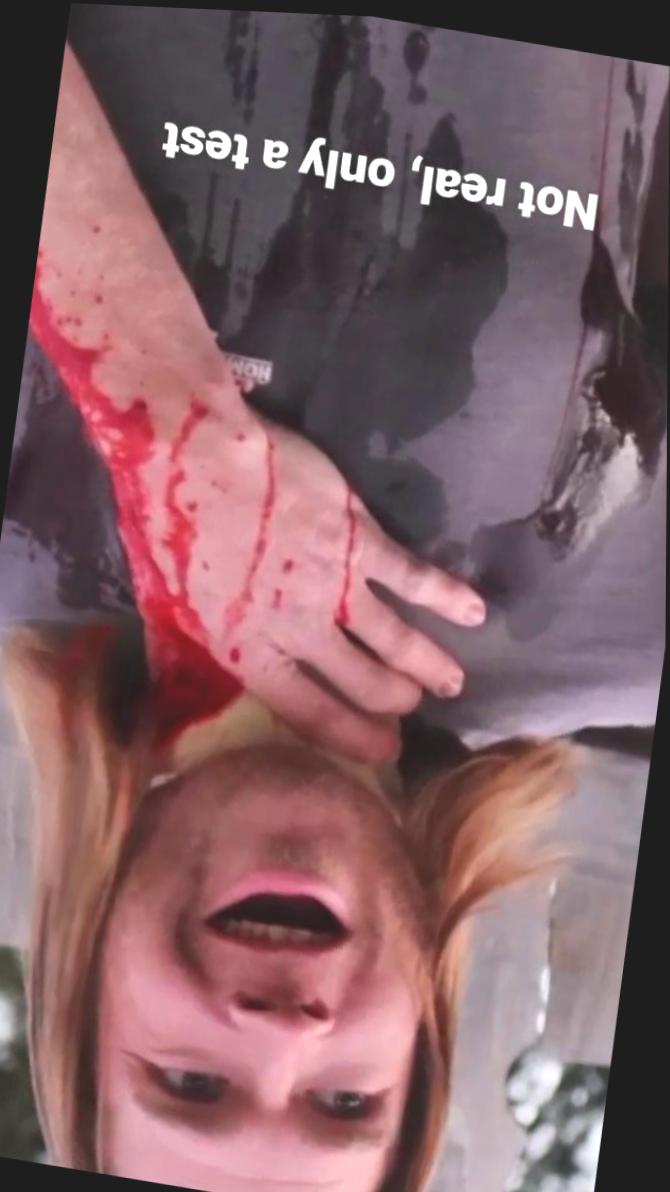Fire: (29, 260, 245, 746), (147, 345, 269, 639), (4, 359, 136, 614), (230, 417, 297, 624), (335, 475, 392, 627), (229, 633, 245, 663)
